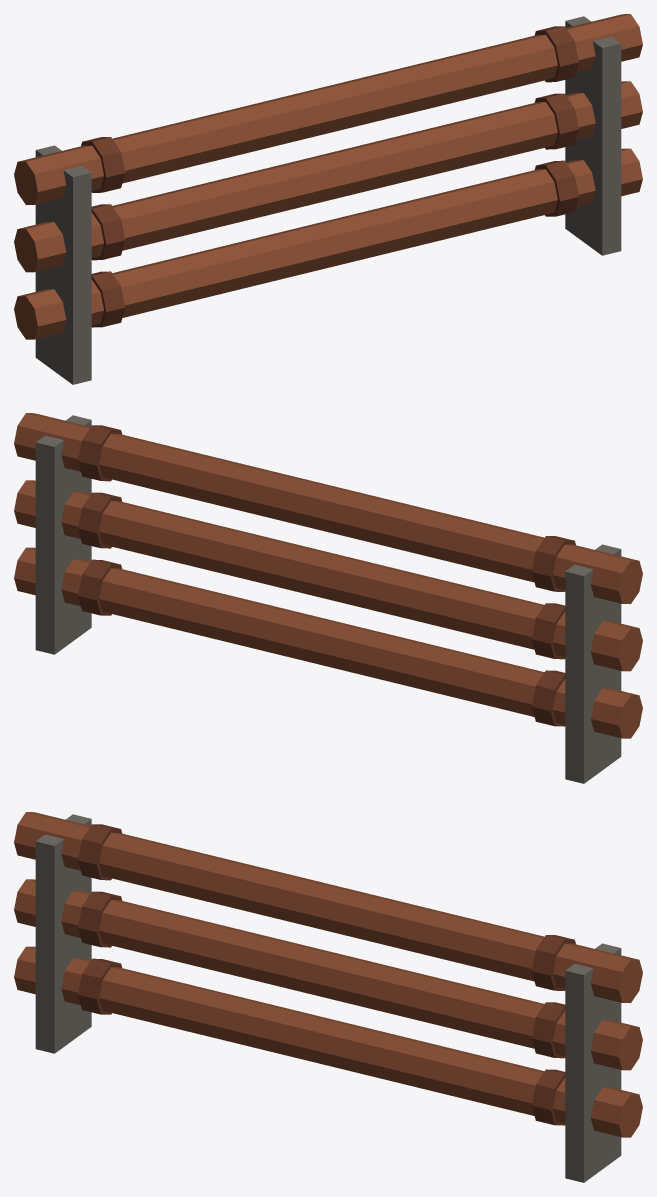
File: P_PipeRun.glb
The picture shows the model from 3 angles, top to bottom: view 1: azimuth 30°, elevation 25°; view 2: azimuth 150°, elevation 25°; view 3: azimuth 330°, elevation 25°; orthographic projection.
Parts seen in each view (by area): view 1: P_PipeRun; view 2: P_PipeRun; view 3: P_PipeRun.
Boxes of the visible parts, x1,y1,x2,y2 form: P_PipeRun: [14, 14, 642, 384]; P_PipeRun: [14, 413, 642, 783]; P_PipeRun: [14, 812, 642, 1182].
Bounding box in the file's own units: 3.2 × 1.12 × 0.34.
